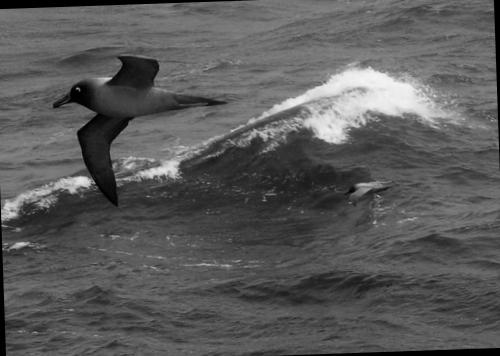bird: (42, 38, 245, 216), (342, 174, 399, 211)
